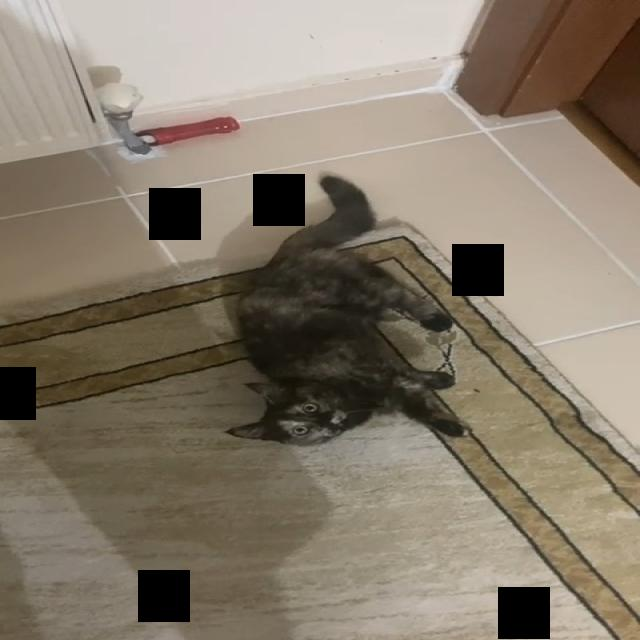authorized: (223, 172, 469, 446)
